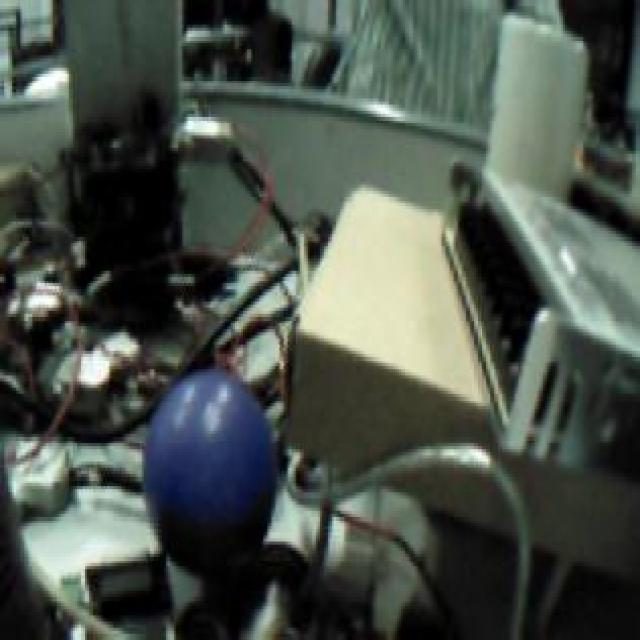BallPurple: (142, 373, 274, 562)
